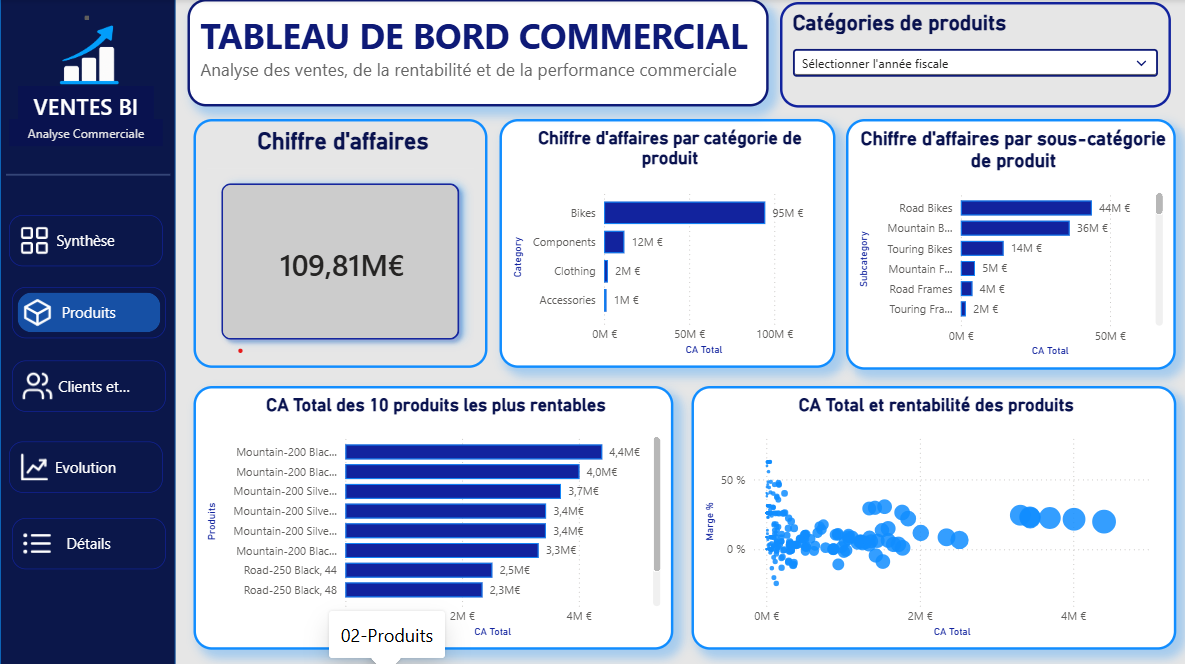

This screenshot's page, from the dashboard's own definition file:
{"tool":"powerbi","page":{"name":"02-Produits","canvas":[1280,720],"ordinal":1},"visuals":[{"type":"clusteredBarChart","title":"Chiffre d''affaires par catégorie de produit","fields":{"Category":["Product_data.Category"],"Y":["Mesure.CA Total"]},"box":[539.2,129.5,362.7,268.8],"z":0},{"type":"clusteredBarChart","title":"Chiffre d''affaires par sous-catégorie de produit","fields":{"Category":["Product_data.Subcategory"],"Y":["Mesure.CA Total"]},"box":[913.2,129.5,356.2,270.4],"z":1000},{"type":"clusteredBarChart","title":"CA Total des 10 produits les plus rentables","fields":{"Category":["Product_data.Product"],"Y":["Mesure.CA Total"]},"box":[208.9,417.8,518.2,285],"z":2000},{"type":"scatterChart","title":"CA Total et rentabilité des produits","fields":{"Category":["Product_data.Product"],"Size":["Mesure.CA Total"],"X":["Mesure.CA Total"],"Y":["Mesure.Marge %"]},"box":[746.5,417.8,523,285],"z":3000},{"type":"shape","box":[0,0,189.5,720.2],"z":4000},{"type":"actionButton","box":[87.4,0,13,40.5],"z":5000},{"type":"actionButton","box":[9.8,233.6,166.3,55],"z":6000},{"type":"actionButton","box":[12.2,310.6,166.3,55],"z":7000},{"type":"actionButton","box":[12.2,390.1,166,55],"z":8000},{"type":"actionButton","box":[9.8,478.1,166,55],"z":9000},{"type":"actionButton","box":[12.2,560.1,166,55],"z":10000},{"type":"textbox","box":[19.6,94.2,146.7,44],"z":11000},{"type":"textbox","box":[9.8,129.6,166.3,29.3],"z":12000},{"type":"shape","box":[6.1,183.4,177.3,13.5],"z":13000},{"type":"image","box":[1.2,0,189.5,119.8],"z":14000},{"type":"textbox","box":[201.8,0,627.3,116.2],"z":15000},{"type":"cardVisual","title":"Chiffre d''affaires ","fields":{"Data":["Mesure.CA Total"]},"box":[208.9,129.5,317.4,268.8],"z":16000},{"type":"listSlicer","title":"Catégories de produits ","fields":{"Values":["Product_data.Category"]},"box":[842.5,2.4,421.9,113.7],"z":17000}]}

Visuals, with their boxes on the page's 1280x720 design canvas (x1, y1, x2, y2). These are canvas units, not pixel positions in the 1185x664 screenshot, which may show the page scaled, cropped or inside an application window:
"Chiffre d''affaires par catégorie de produit" clusteredBarChart: {"left": 539, "top": 130, "right": 902, "bottom": 398}
"Chiffre d''affaires par sous-catégorie de produit" clusteredBarChart: {"left": 913, "top": 130, "right": 1269, "bottom": 400}
"CA Total des 10 produits les plus rentables" clusteredBarChart: {"left": 209, "top": 418, "right": 727, "bottom": 703}
"CA Total et rentabilité des produits" scatterChart: {"left": 746, "top": 418, "right": 1270, "bottom": 703}
shape: {"left": 0, "top": 0, "right": 190, "bottom": 720}
actionButton: {"left": 87, "top": 0, "right": 100, "bottom": 40}
actionButton: {"left": 10, "top": 234, "right": 176, "bottom": 289}
actionButton: {"left": 12, "top": 311, "right": 178, "bottom": 366}
actionButton: {"left": 12, "top": 390, "right": 178, "bottom": 445}
actionButton: {"left": 10, "top": 478, "right": 176, "bottom": 533}
actionButton: {"left": 12, "top": 560, "right": 178, "bottom": 615}
textbox: {"left": 20, "top": 94, "right": 166, "bottom": 138}
textbox: {"left": 10, "top": 130, "right": 176, "bottom": 159}
shape: {"left": 6, "top": 183, "right": 183, "bottom": 197}
image: {"left": 1, "top": 0, "right": 191, "bottom": 120}
textbox: {"left": 202, "top": 0, "right": 829, "bottom": 116}
"Chiffre d''affaires " cardVisual: {"left": 209, "top": 130, "right": 526, "bottom": 398}
"Catégories de produits " listSlicer: {"left": 842, "top": 2, "right": 1264, "bottom": 116}
